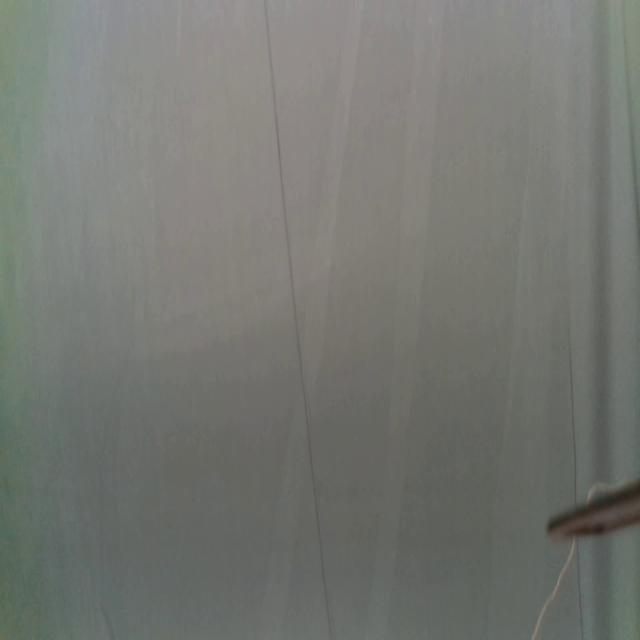crease: (264, 0, 334, 640), (620, 0, 639, 239), (567, 319, 579, 512), (574, 534, 586, 640)
